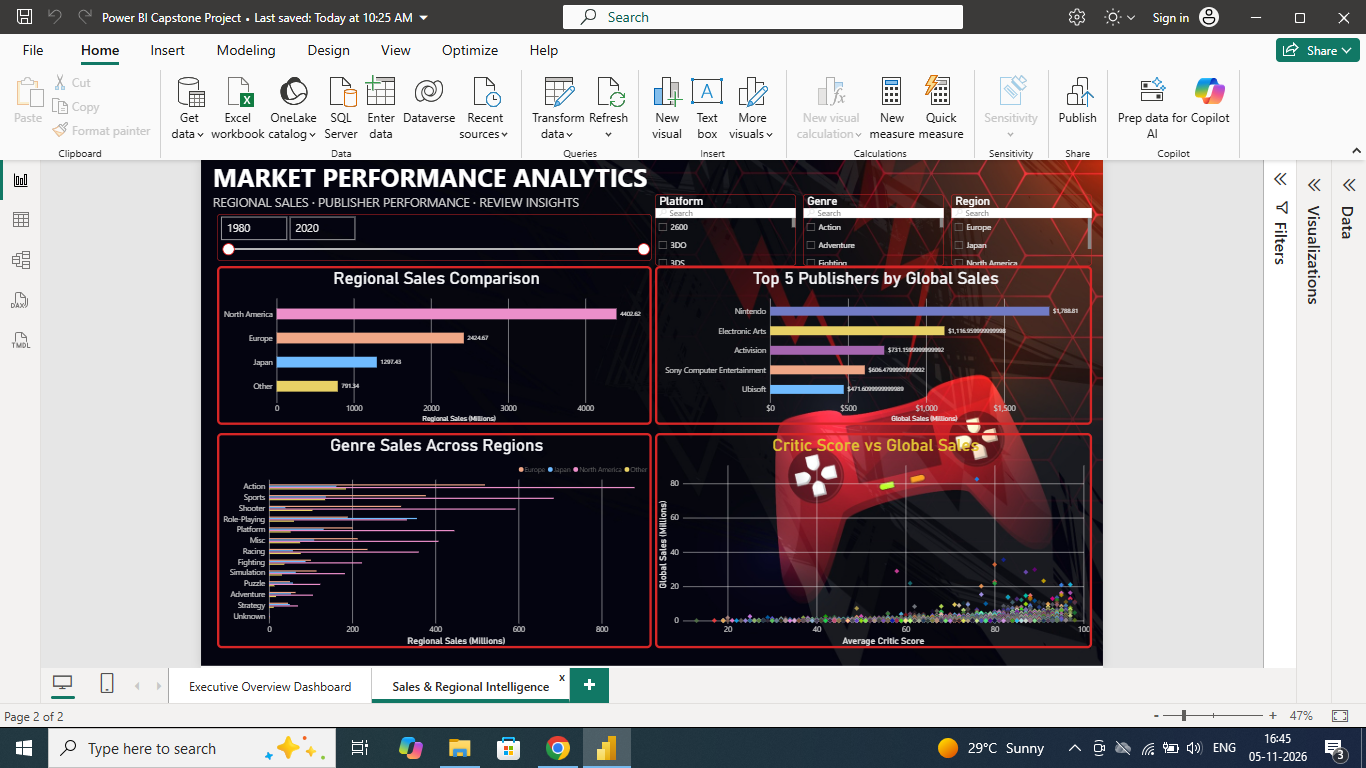

The dashboard page shown, as its layout file describes it:
{"tool":"powerbi","page":{"name":"Sales & Regional Intelligence","canvas":[1920,1080],"ordinal":1},"visuals":[{"type":"textbox","box":[10,0,950,107.5],"z":0},{"type":"clusteredBarChart","title":"Regional Sales Comparison","fields":{"Category":["DimRegion.Region"],"Y":["Measures (2).Total Regional Sales"]},"box":[35,225,925,337.5],"z":1000},{"type":"clusteredBarChart","title":"Top 5 Publishers by Global Sales","fields":{"Category":["DimRelease.Publisher"],"Y":["Measures (2).Total Global Sales"]},"box":[965,225,930,337.5],"z":2000},{"type":"clusteredBarChart","title":"Genre Sales Across Regions","fields":{"Category":["DimRelease.Genre"],"Series":["DimRegion.Region"],"Y":["Measures (2).Total Regional Sales"]},"box":[35,580,925,457.5],"z":3000},{"type":"scatterChart","title":"Critic Score vs Global Sales","fields":{"Category":["FactGameSales.ReleaseID"],"X":["Avg(FactGameSales.Critic_Score)"],"Y":["Avg(FactGameSales.Global_Sales)"]},"box":[965,580,930,458],"z":4000},{"type":"slicer","fields":{"Values":["DimPlatform.Platform"]},"box":[965,72.5,300,152.5],"z":4001},{"type":"slicer","fields":{"Values":["DimRegion.Region"]},"box":[1595,72.5,300,152.5],"z":4002},{"type":"slicer","fields":{"Values":["DimRelease.Genre"]},"box":[1280,72.5,300,152.5],"z":4003},{"type":"slicer","fields":{"Values":["DimYear.Year_of_Release"]},"box":[35,115,925,100],"z":4004}]}

Visuals, with their boxes on the page's 1920x1080 design canvas (x1, y1, x2, y2). These are canvas units, not pixel positions in the 1366x768 screenshot, which may show the page scaled, cropped or inside an application window:
textbox: 10,0,960,108
"Regional Sales Comparison" clusteredBarChart: 35,225,960,562
"Top 5 Publishers by Global Sales" clusteredBarChart: 965,225,1895,562
"Genre Sales Across Regions" clusteredBarChart: 35,580,960,1038
"Critic Score vs Global Sales" scatterChart: 965,580,1895,1038
slicer - DimPlatform.Platform: 965,72,1265,225
slicer - DimRegion.Region: 1595,72,1895,225
slicer - DimRelease.Genre: 1280,72,1580,225
slicer - DimYear.Year_of_Release: 35,115,960,215
